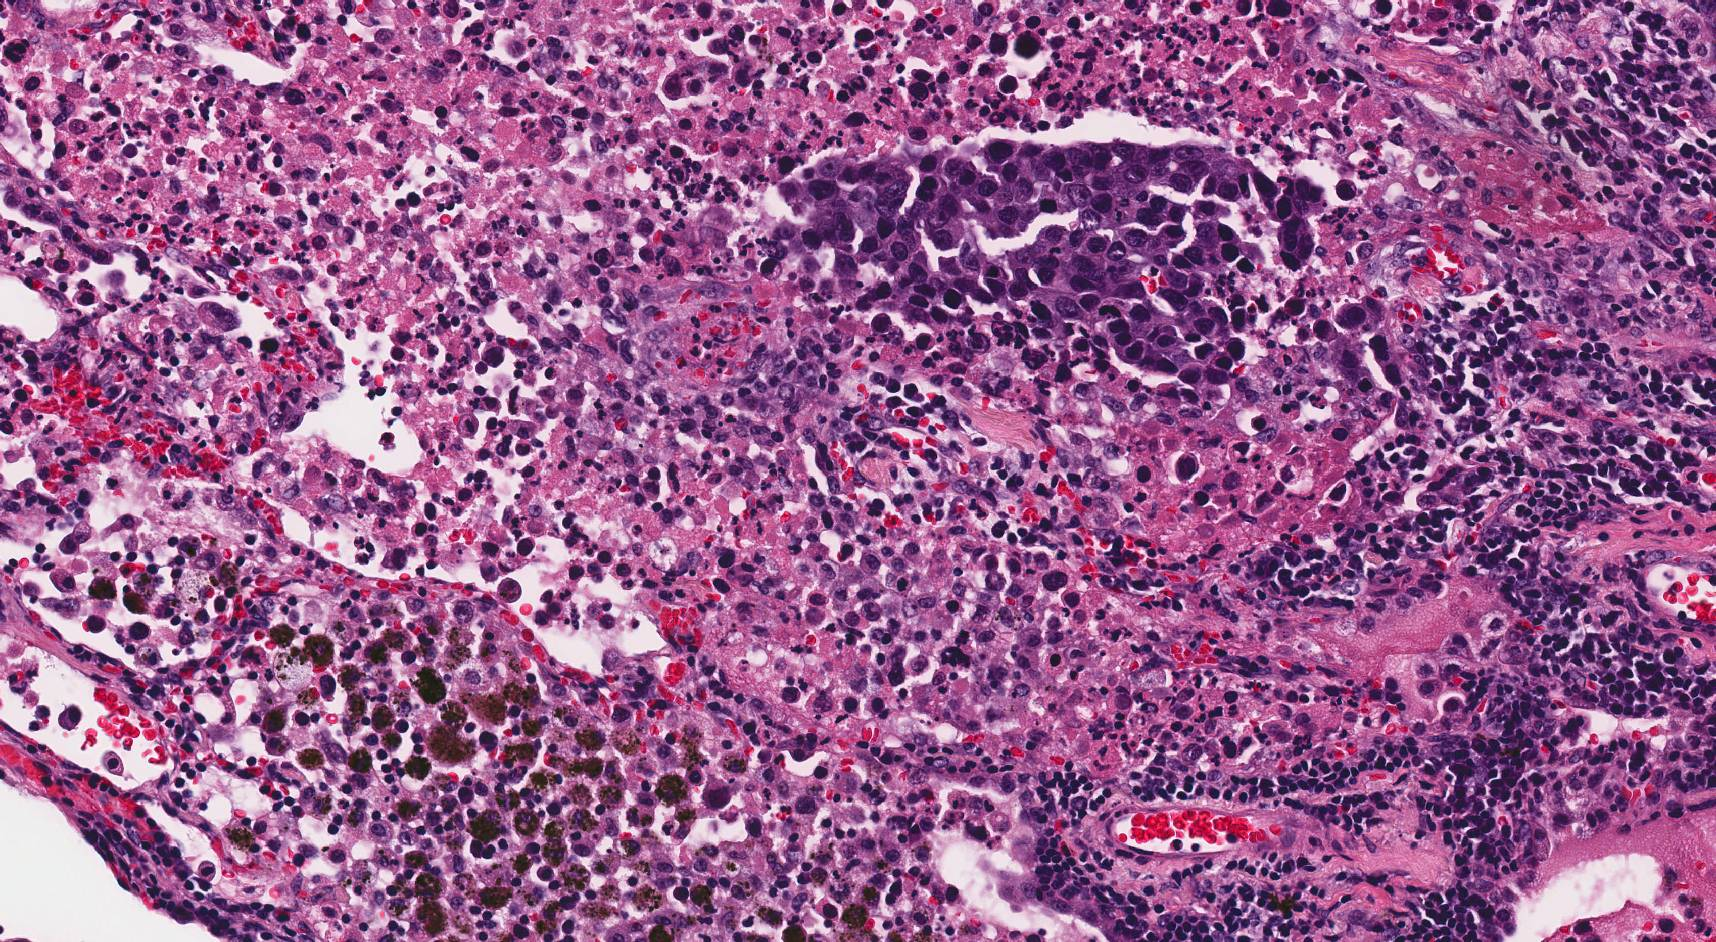stas: (776, 139, 1328, 387)
